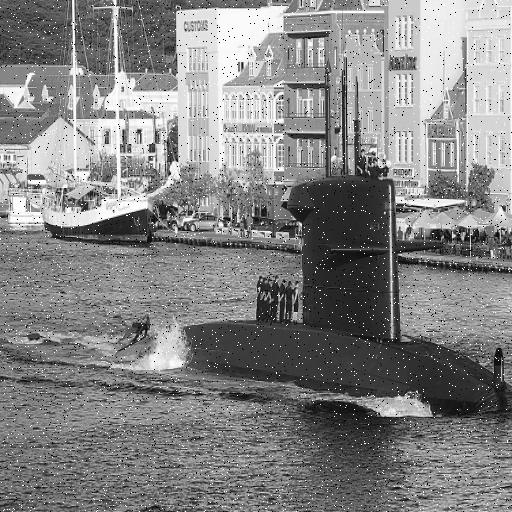submarine: (110, 41, 512, 416)
